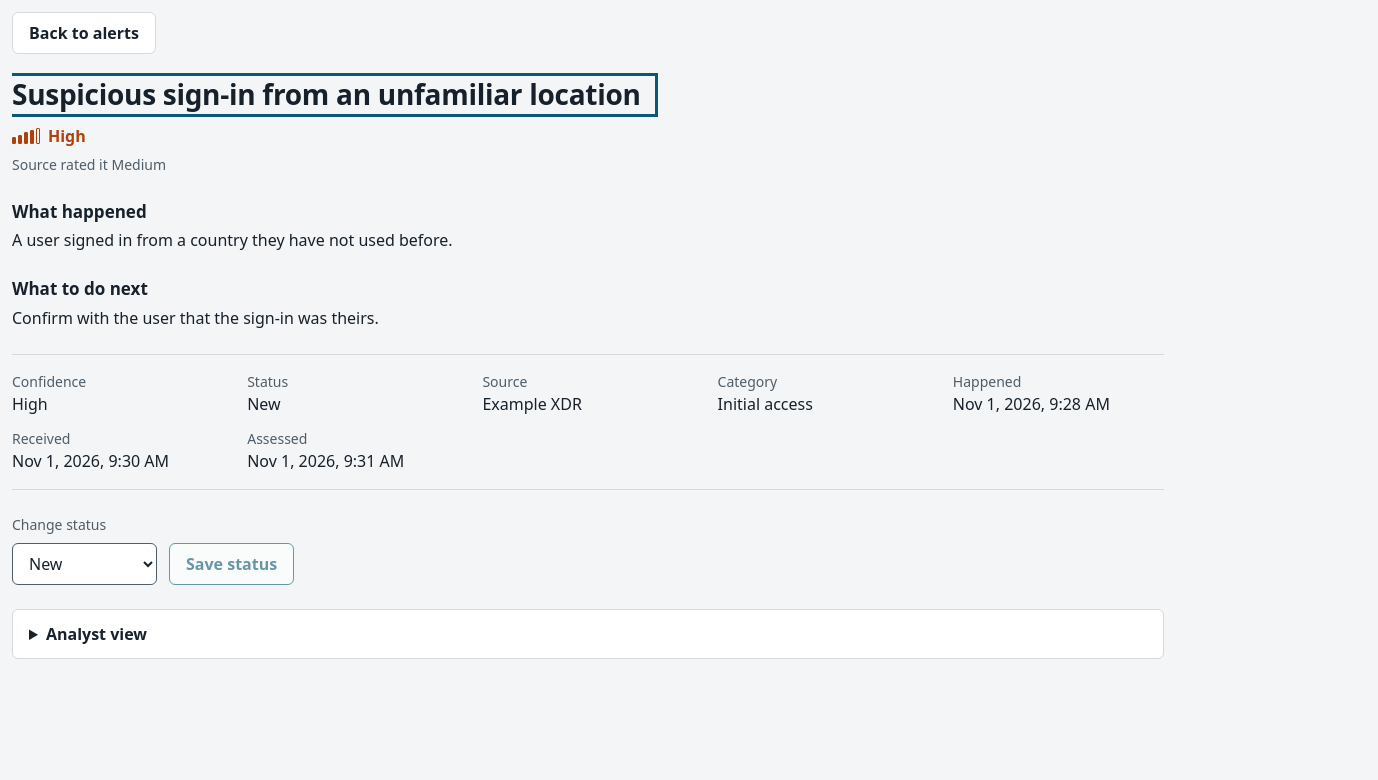
Test case: AlertDetailView › explains a 403 and leaves the status as it was
Select "Resolved" in the dropdown labelled "Change status" at [84, 564], box x1=12 y1=543 x2=157 y2=585
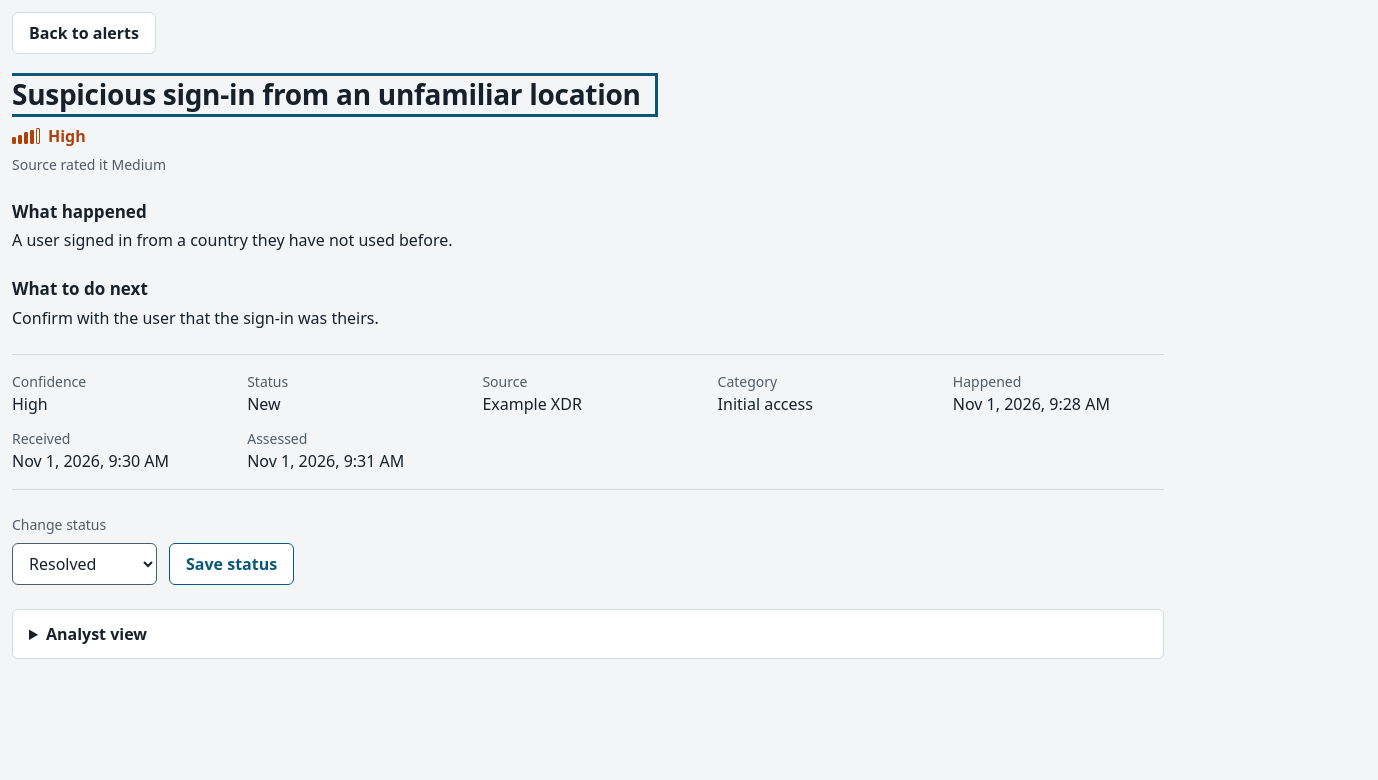
Click the button "Save status" at [232, 564], box x1=169 y1=543 x2=294 y2=585
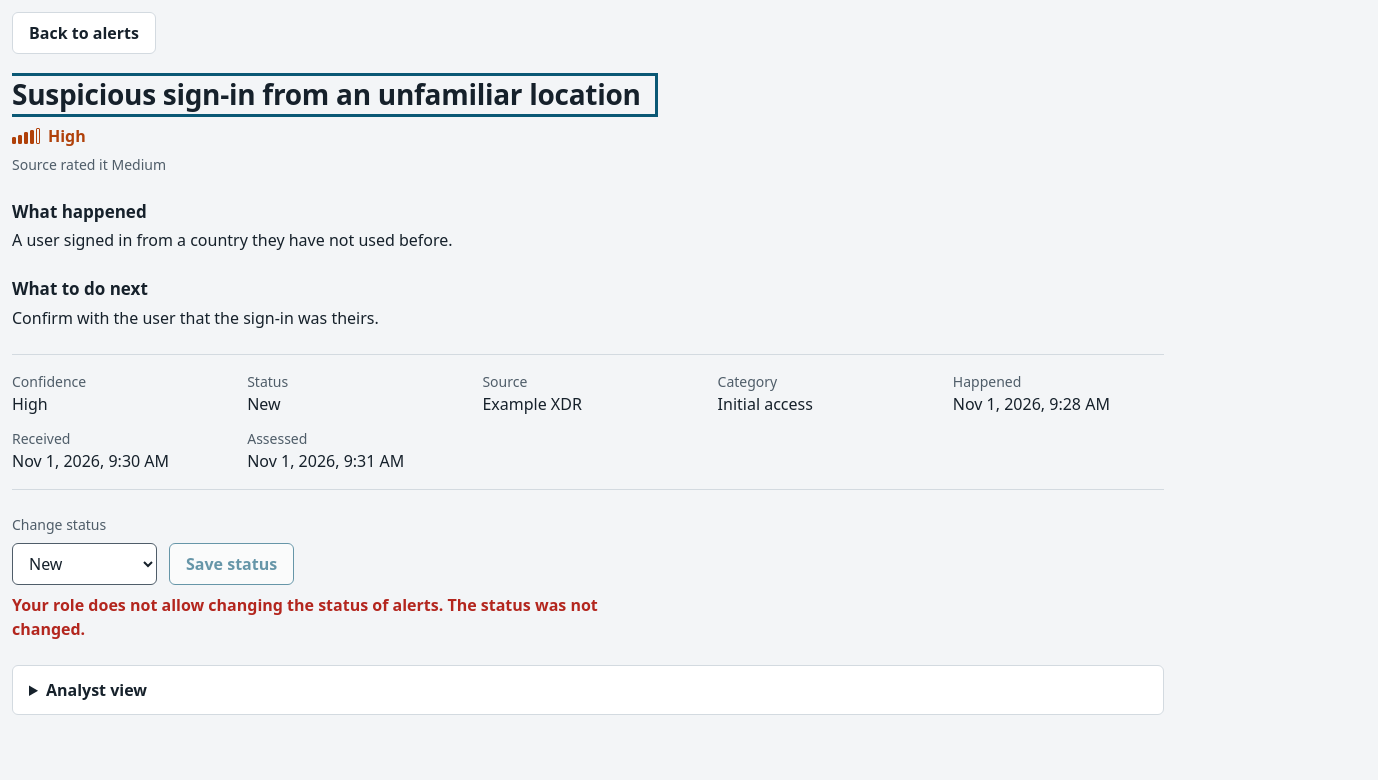
Check: the text "New" is shown, box x1=247 y1=393 x2=281 y2=415
Check: the message shows "Your role does not allow changing the status", box x1=12 y1=594 x2=598 y2=640
Check: the message shows "The status was not changed.", box x1=12 y1=594 x2=598 y2=640
